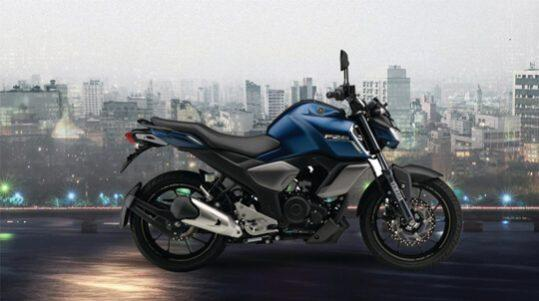motorbike: (117, 49, 463, 271)
